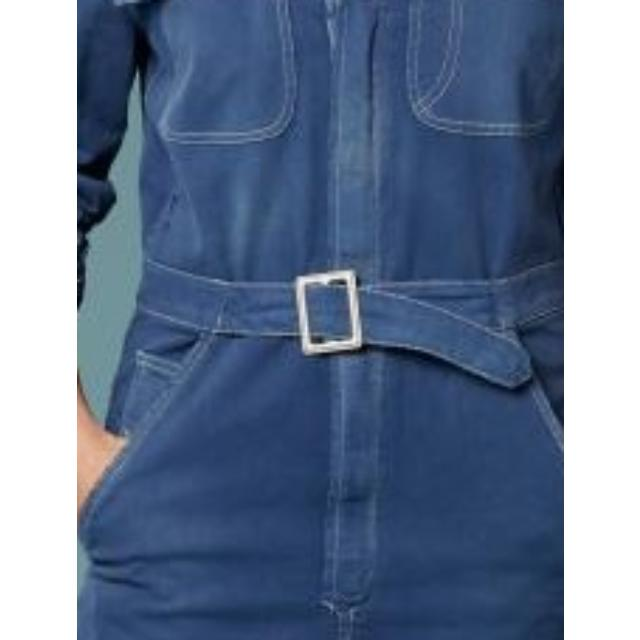denim: (126, 0, 564, 640)
